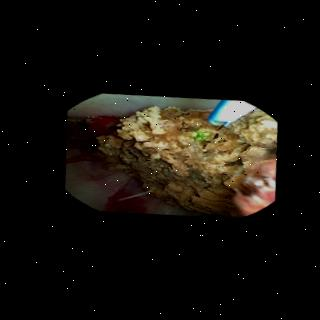fiber: (206, 102, 252, 127)
stone: (93, 108, 272, 217)
tissue: (65, 117, 187, 216)
